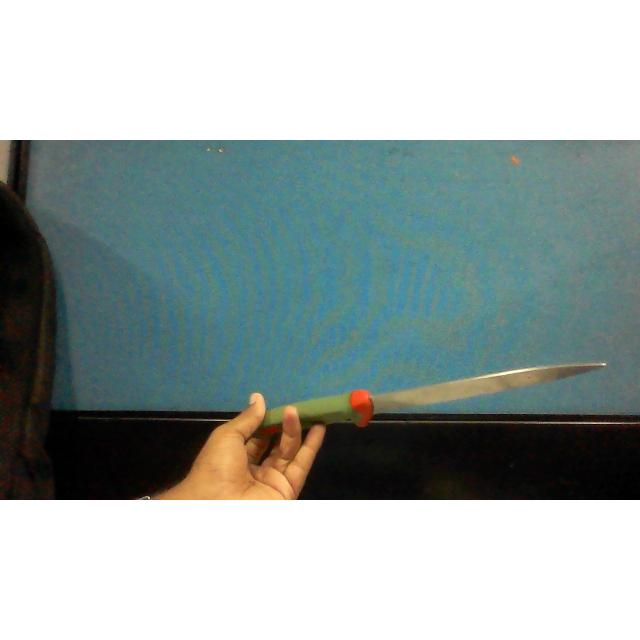Knife: (292, 364, 607, 428)
